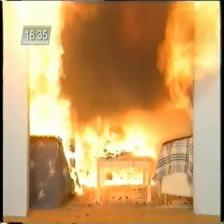fire: (20, 8, 62, 140), (75, 125, 158, 156)
